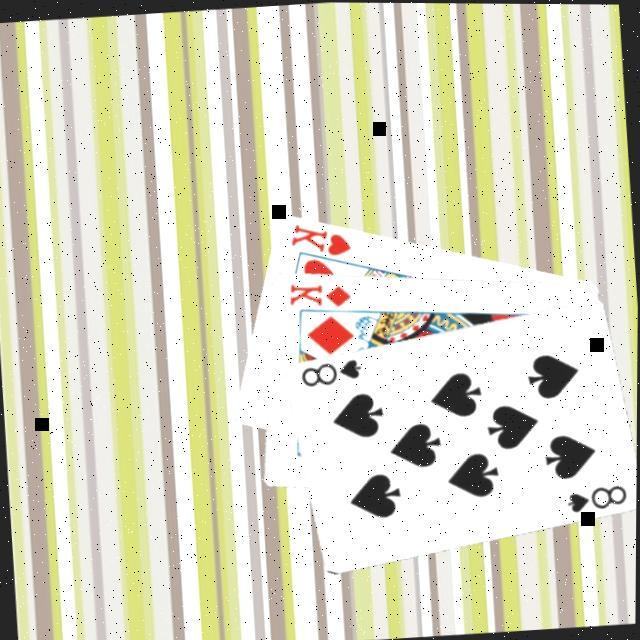8S: (294, 354, 364, 391), (560, 480, 628, 516)
KD: (282, 276, 354, 313)
KH: (284, 217, 352, 262)
